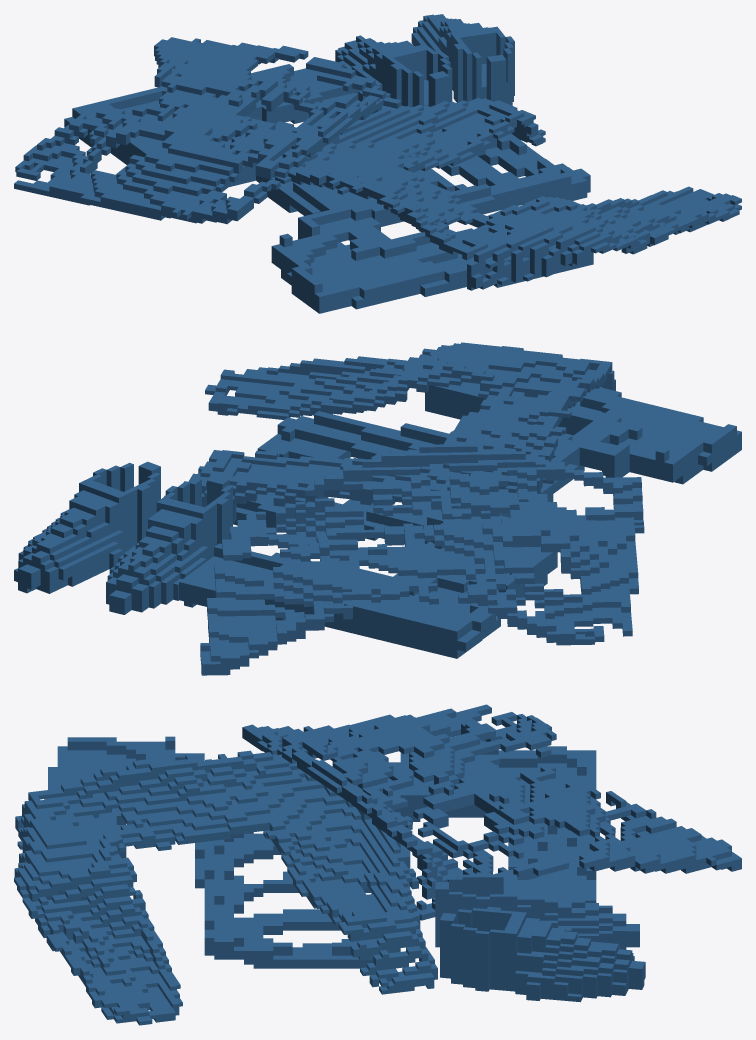
File: Ubranka.fbx
The picture shows the model from 3 angles, top to bottom: view 1: azimuth 30°, elevation 25°; view 2: azimuth 150°, elevation 25°; view 3: azimuth 270°, elevation 25°; orthographic projection. The views are drawn at different scales.
Visible parts, largest first — view 1: Circle.005; view 2: Circle.005; view 3: Circle.005.
Boxes of the visible parts, x1,y1,x2,y2 form: Circle.005: [14, 14, 741, 313]; Circle.005: [14, 342, 741, 675]; Circle.005: [14, 704, 741, 1025].
Size of the model in its own units: 507 by 83.9 by 543.
